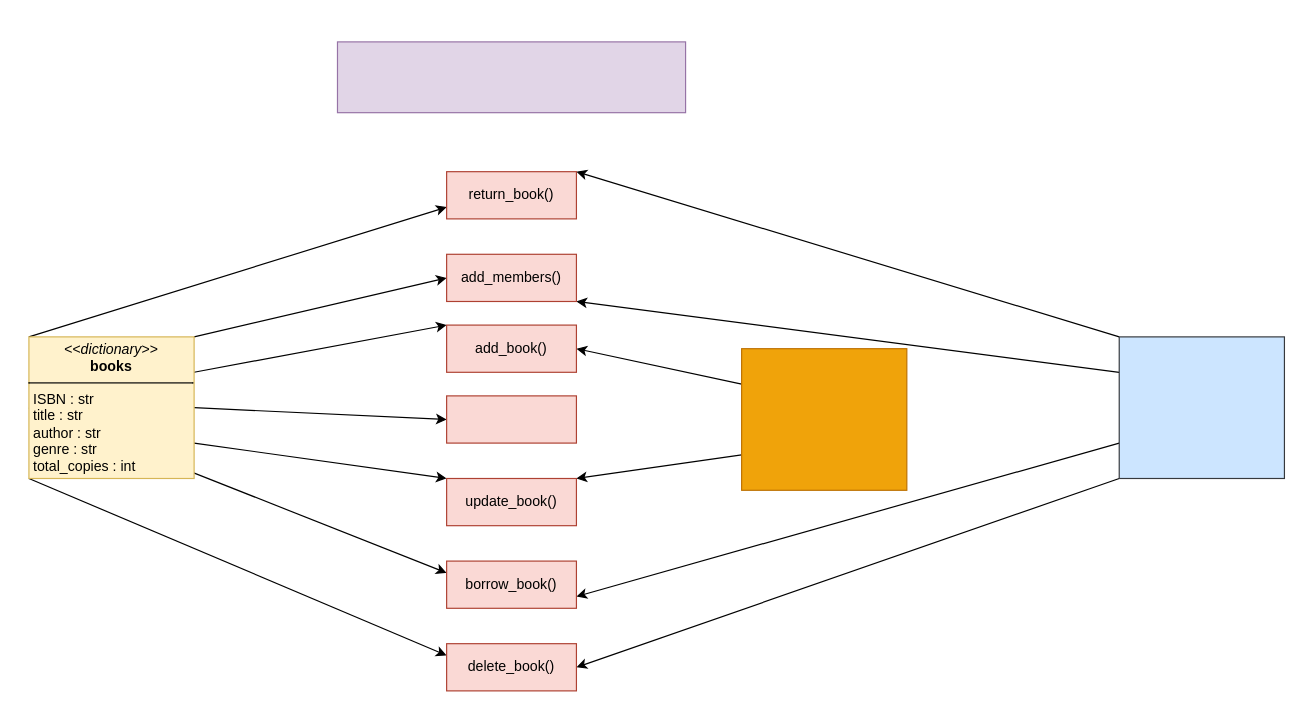
Some shapes in this 1305 by 712 pixel diagram are drawn without their labels. The centre of each missing label's shape, as x and y in pixels:
"<<list>> members member_id : str name : str email: str borrowed_books: str" goes at (x=1201, y=407).
"<<tuple>> genres ('fiction', 'non-fiction','sci-fi', 'Anime')" goes at (x=823, y=419).
"Library Management System" goes at (x=511, y=77).
"search_book()" goes at (x=510, y=419).
